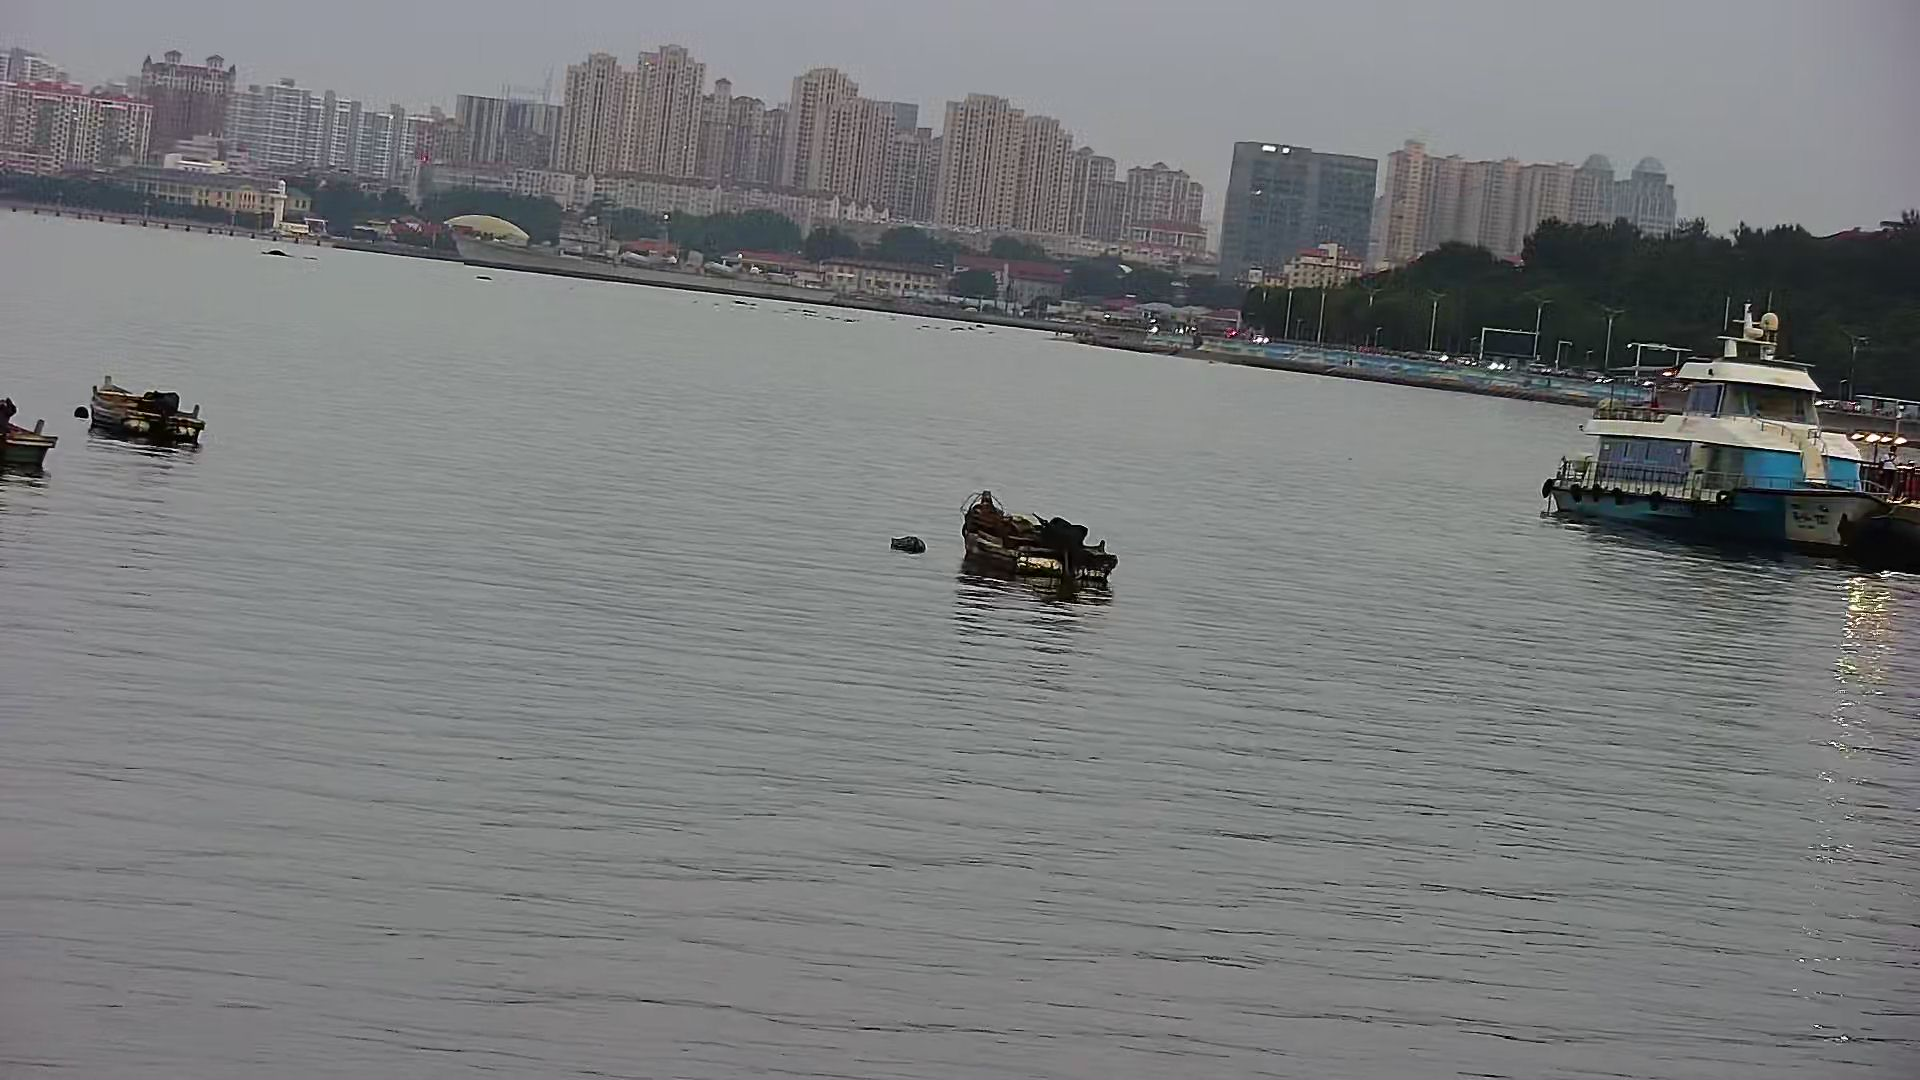boat: (960, 483, 1118, 599), (80, 364, 210, 454)
rubbish: (880, 527, 930, 560)
ship: (1551, 301, 1867, 549)
